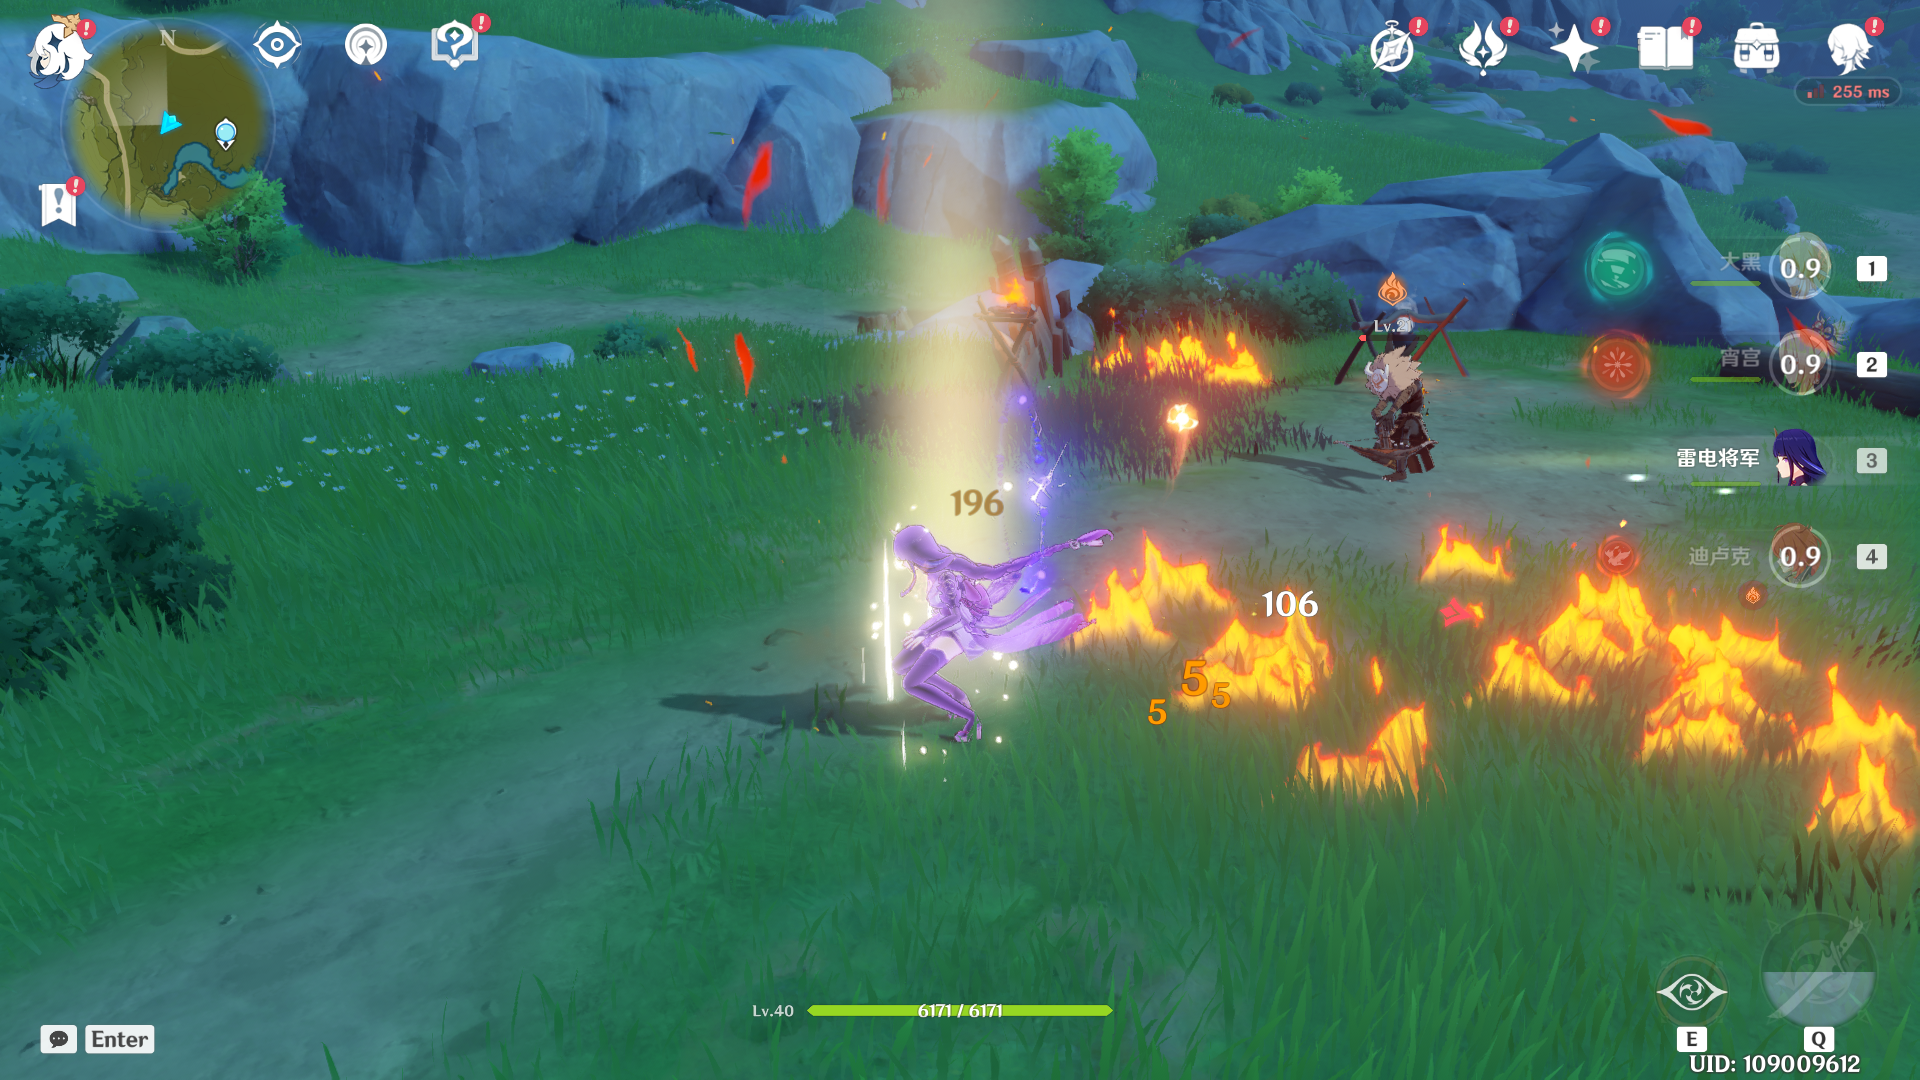character: (823, 512, 1126, 771)
hili: (1327, 339, 1491, 502)
